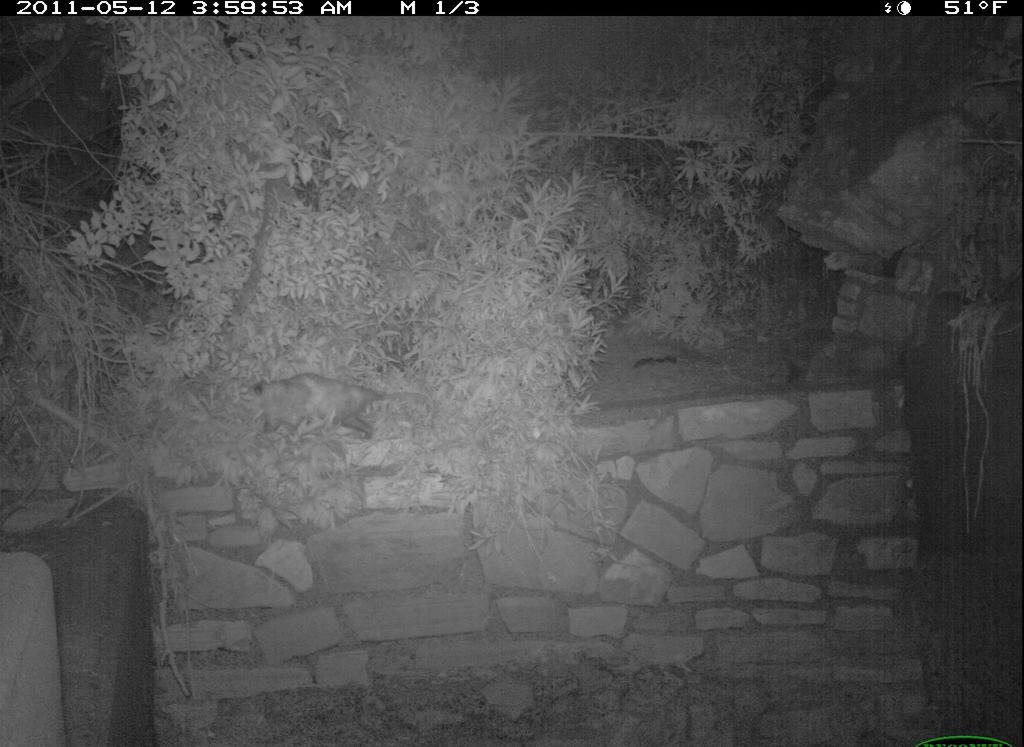opossum: (232, 365, 385, 457)
